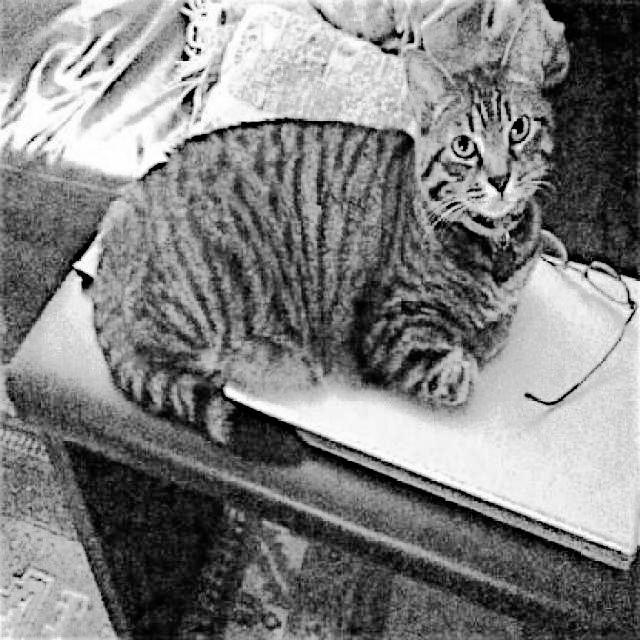Cat: (90, 0, 563, 477)
